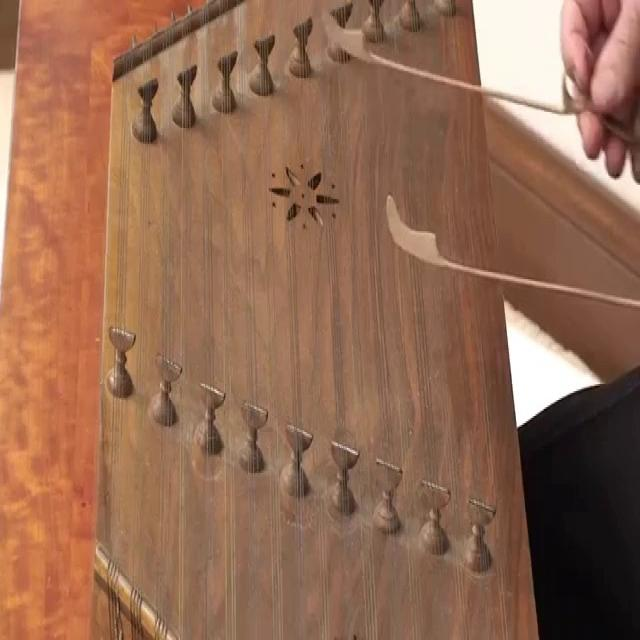Santur: (98, 3, 537, 640)
